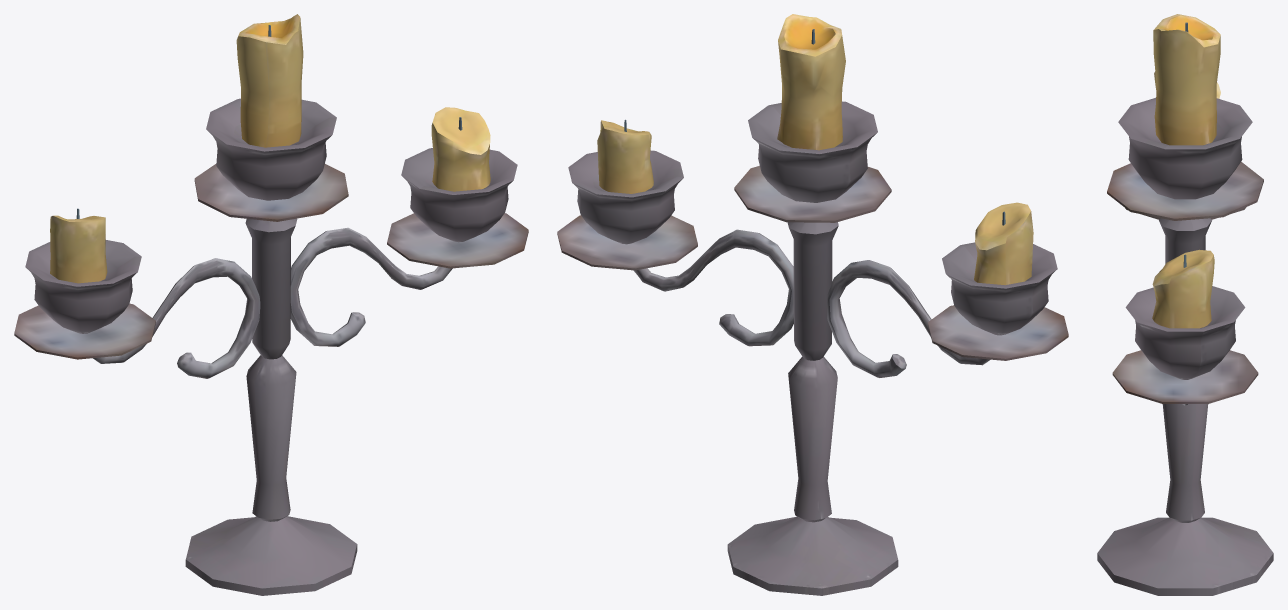
Rendered from candle-stick-triple.glb.
3 renders of one model, left to right at view 1: azimuth 30°, elevation 25°; view 2: azimuth 150°, elevation 25°; view 3: azimuth 270°, elevation 25°, orthographic.
Parts seen in each view (by area): view 1: CandleStick_Triple; view 2: CandleStick_Triple; view 3: CandleStick_Triple.
Part boxes in pixels (x1,y1,x2,y2): CandleStick_Triple: [14, 14, 528, 595]; CandleStick_Triple: [557, 14, 1068, 595]; CandleStick_Triple: [1097, 14, 1273, 595].
Size of the model in its own units: 0.4423 by 0.4633 by 0.1363.
2 materials, 2 textured.
